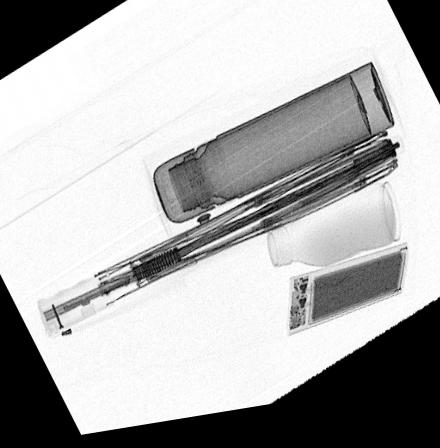Powerbank: (286, 255, 410, 345)
